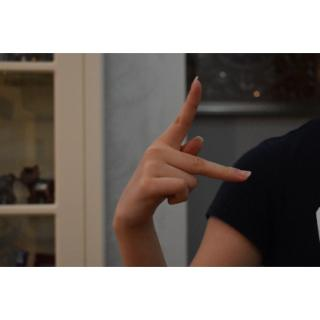DHAA: (107, 73, 261, 238)
